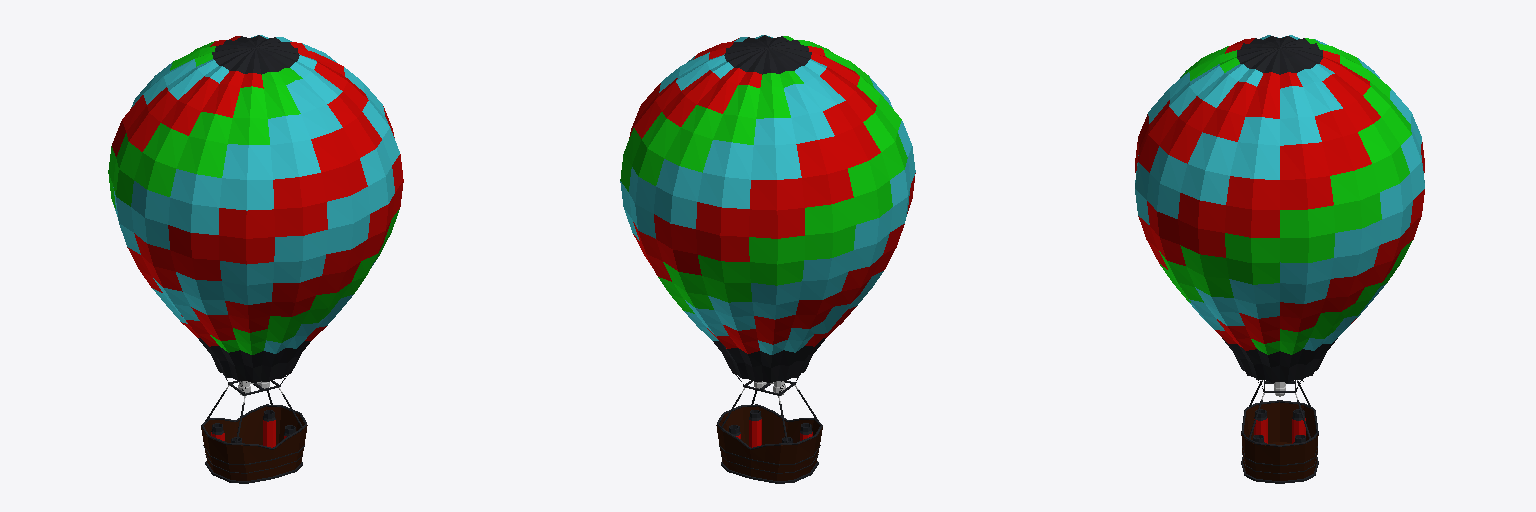
File: Balloon.obj
3 views of the same model, side by side, from view 1: azimuth 30°, elevation 25°; view 2: azimuth 150°, elevation 25°; view 3: azimuth 270°, elevation 25° (orthographic).
Visible parts, largest first — view 1: Balloon_Circle, Basket.000_Cube.000, Canisters_Cylinder.012, Ropes_Cylinder.014; view 2: Balloon_Circle, Basket.000_Cube.000, Canisters_Cylinder.012, Ropes_Cylinder.014; view 3: Balloon_Circle, Basket.000_Cube.000, Canisters_Cylinder.012, Ropes_Cylinder.014.
Boxes of the visible parts, <box> form: Balloon_Circle: <box>108,35,403,382</box>; Basket.000_Cube.000: <box>201,404,307,483</box>; Canisters_Cylinder.012: <box>211,410,295,447</box>; Ropes_Cylinder.014: <box>205,366,302,443</box>; Balloon_Circle: <box>620,35,915,382</box>; Basket.000_Cube.000: <box>716,404,822,483</box>; Canisters_Cylinder.012: <box>729,410,812,447</box>; Ropes_Cylinder.014: <box>721,374,818,443</box>; Balloon_Circle: <box>1135,35,1424,382</box>; Basket.000_Cube.000: <box>1241,400,1318,483</box>; Canisters_Cylinder.012: <box>1253,409,1305,443</box>; Ropes_Cylinder.014: <box>1249,379,1310,438</box>.
Bounding box in the file's own units: 9.29 × 14.71 × 9.29.